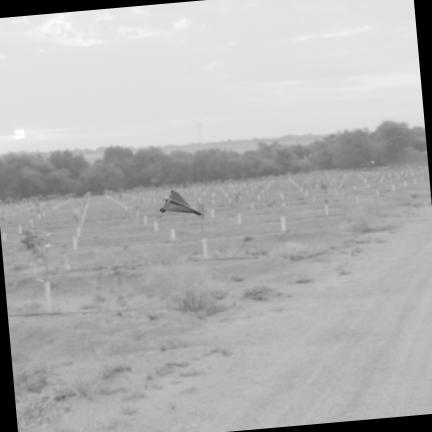Shahed: (161, 190, 202, 215)
